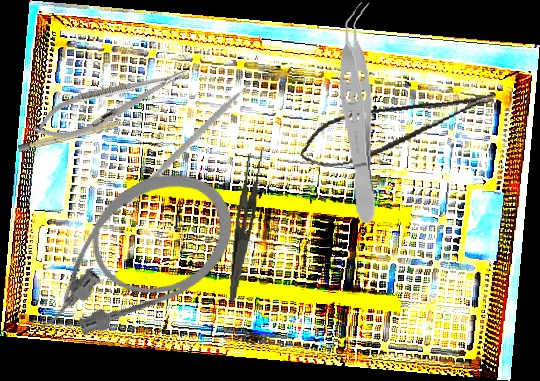Cannula: (2, 150, 254, 363)
Chopper: (125, 54, 270, 231)
Dressing Forceps: (228, 144, 266, 304)
Micro Scissor: (295, 86, 501, 175)
Needle Holder: (27, 54, 196, 152)
Scalpel Handle: (17, 116, 134, 153)
Tissue Forceps: (333, 1, 386, 225)
